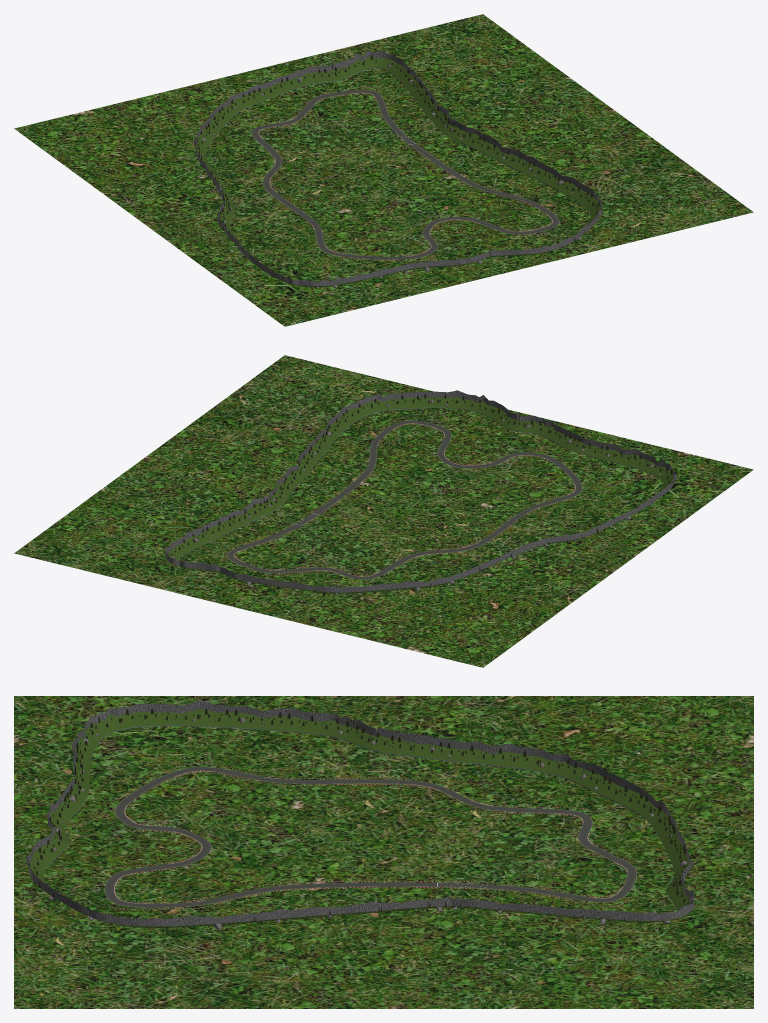
3 renders of one model, top to bottom at view 1: azimuth 30°, elevation 25°; view 2: azimuth 150°, elevation 25°; view 3: azimuth 270°, elevation 25°, orthographic. The views are drawn at different scales.
Parts seen in each view (by area): view 1: Plane, RaceTrack_Wall_00, RaceTrack_Main_00; view 2: Plane, RaceTrack_Wall_00, RaceTrack_Main_00; view 3: Plane, RaceTrack_Wall_00, RaceTrack_Main_00.
Boxes of the visible parts, x1,y1,x2,y2 form: Plane: [14, 14, 753, 326]; RaceTrack_Wall_00: [194, 50, 602, 287]; RaceTrack_Main_00: [251, 90, 559, 259]; Plane: [14, 355, 753, 667]; RaceTrack_Wall_00: [165, 390, 676, 593]; RaceTrack_Main_00: [226, 420, 582, 579]; Plane: [14, 696, 753, 1008]; RaceTrack_Wall_00: [26, 700, 693, 928]; RaceTrack_Main_00: [104, 767, 637, 907].
Size of the model in its own units: 1200 by 35.75 by 1200.
